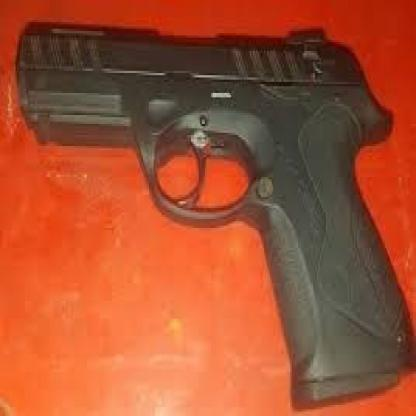Pistol: (8, 7, 413, 406)
